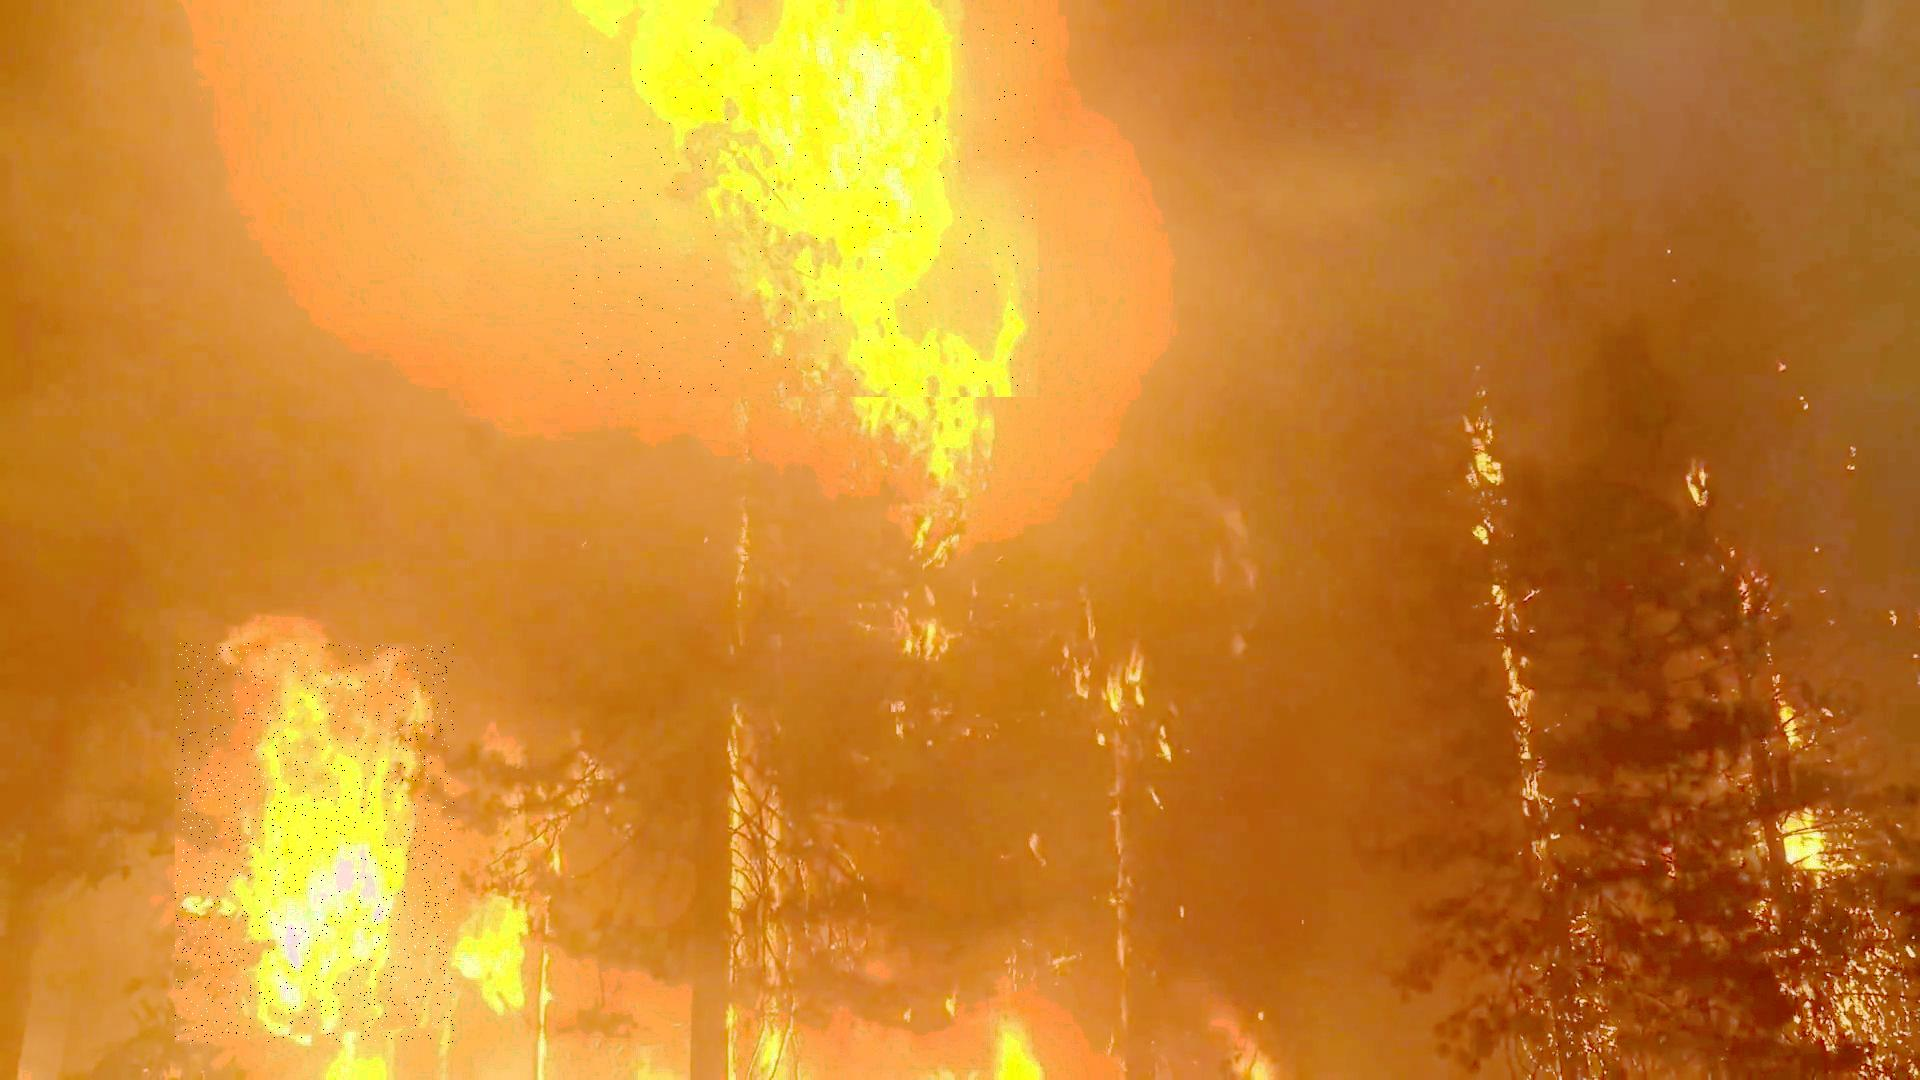fire: (571, 20, 1040, 397), (175, 644, 455, 1044)
